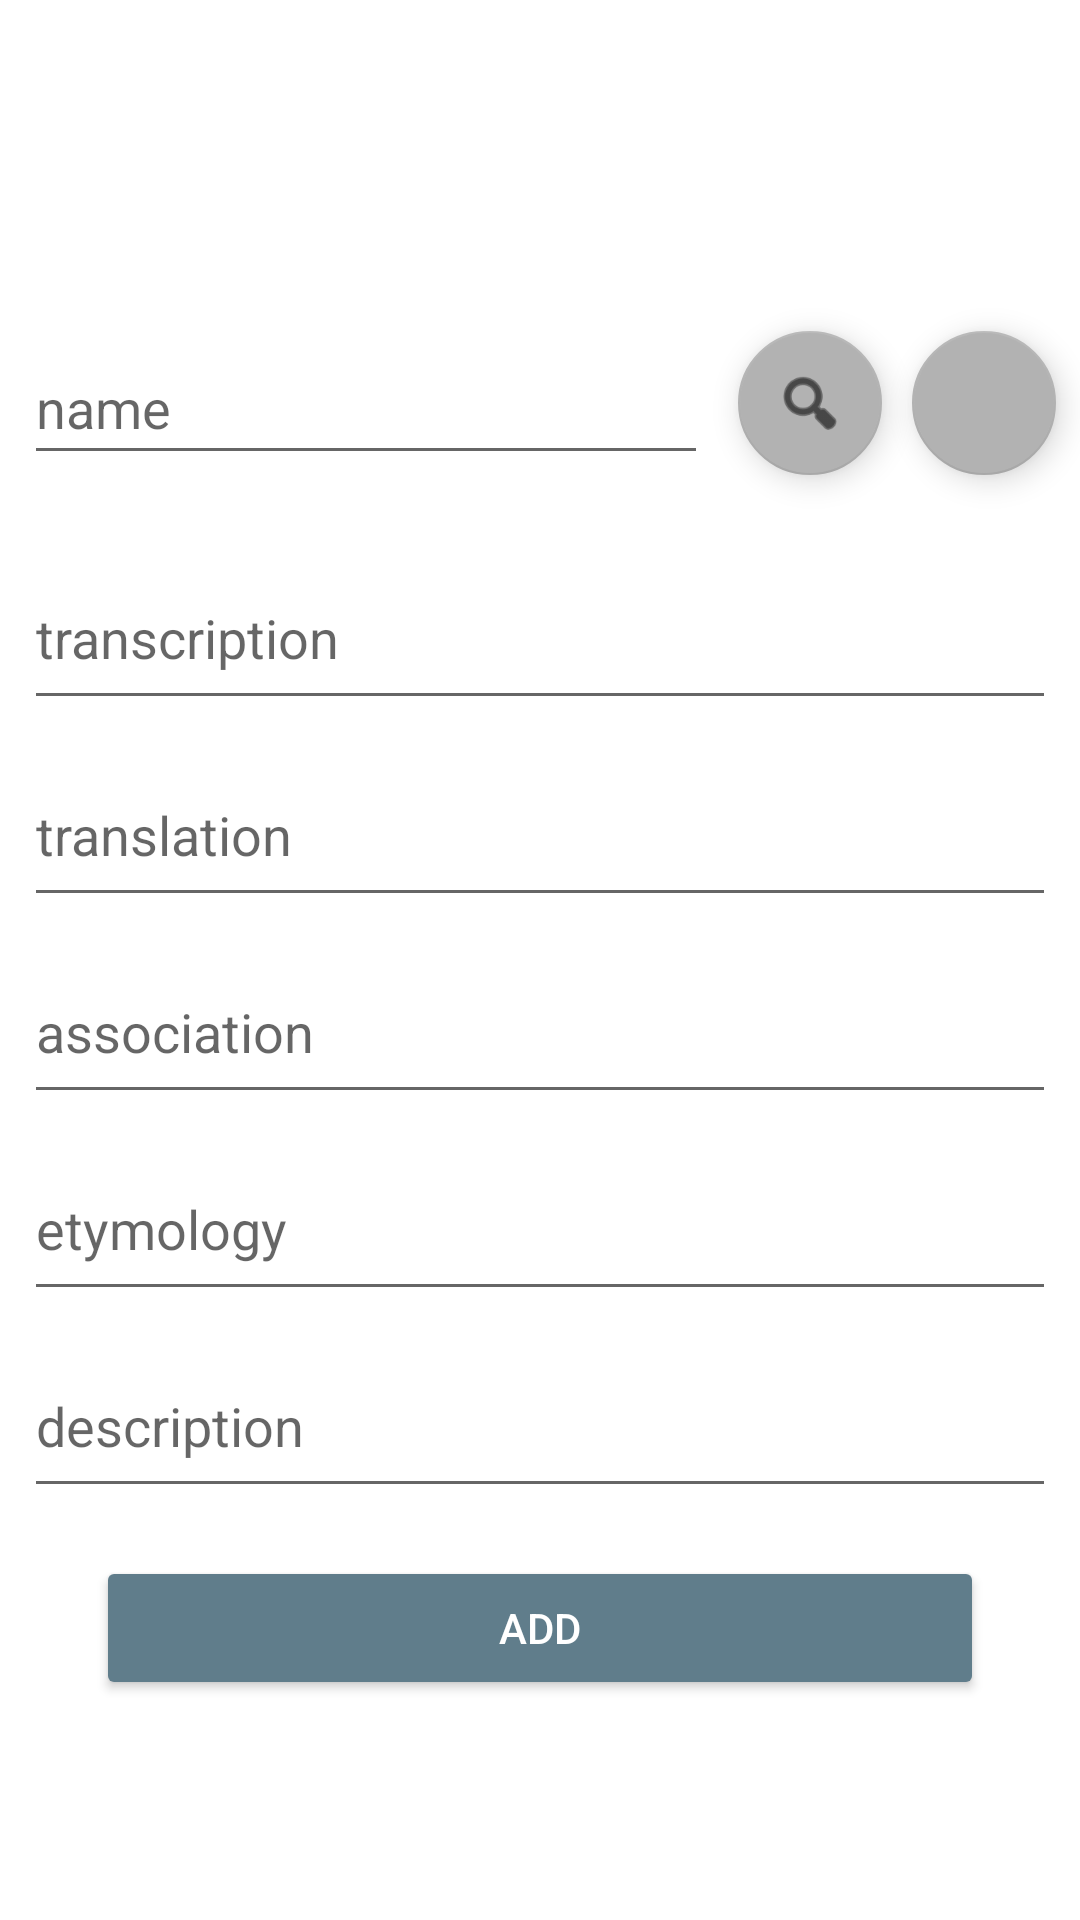

Named icons in this screenshot (1080px x 1920px) and their centers, [x,y]:
search: [810,403]
